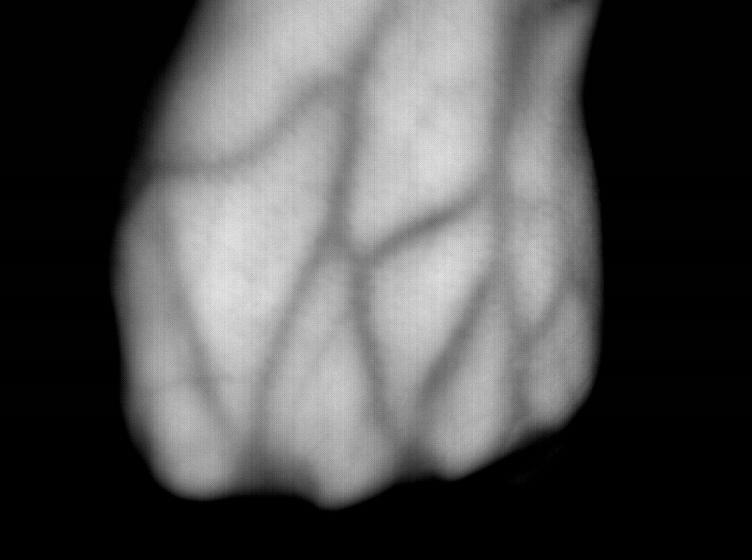Vein: (241, 12, 517, 371)
